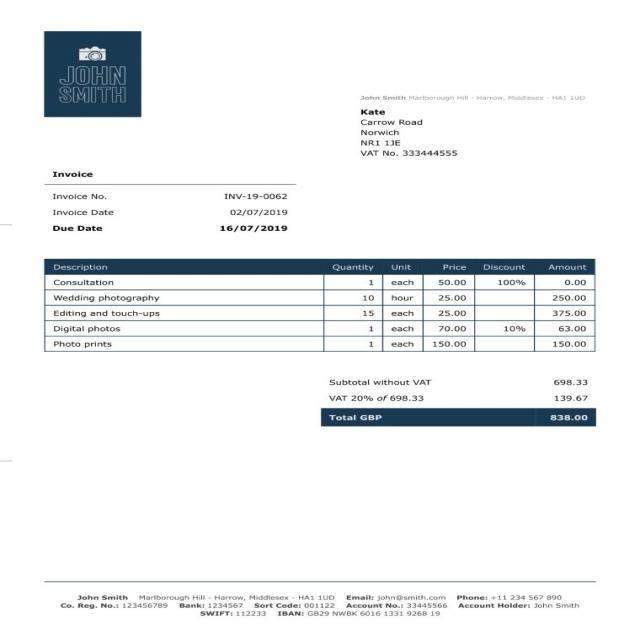customer_name: (357, 116, 430, 128)
due_date: (218, 223, 292, 236)
invoice_date: (222, 207, 290, 219)
invoice_number: (220, 188, 288, 204)
invoice_subtotal: (550, 377, 594, 390)
invoice_total: (540, 410, 598, 426), (548, 334, 595, 346)
item_description: (45, 278, 169, 352)
item_quantity: (349, 276, 377, 349)
item_total_price: (547, 276, 591, 354)
item_unit_price: (431, 273, 471, 349)
supplier_address: (357, 127, 412, 149)
supplier_name: (55, 64, 135, 109)
tax_amount: (550, 392, 594, 404)
